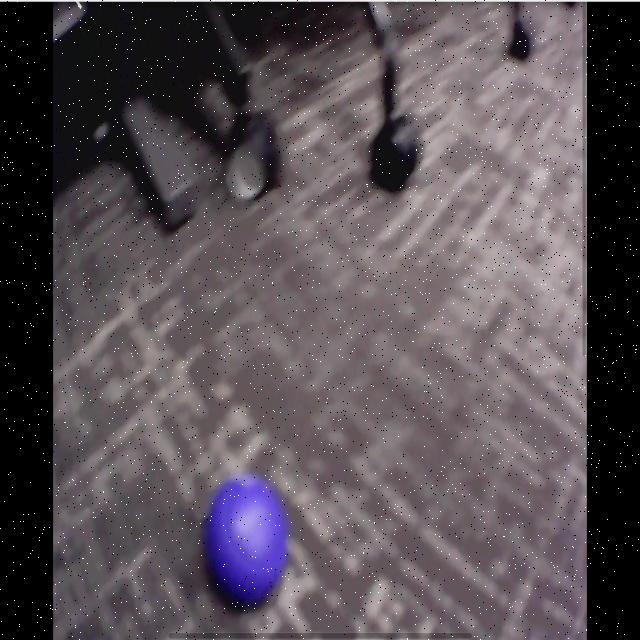ball: (206, 477, 285, 600)
